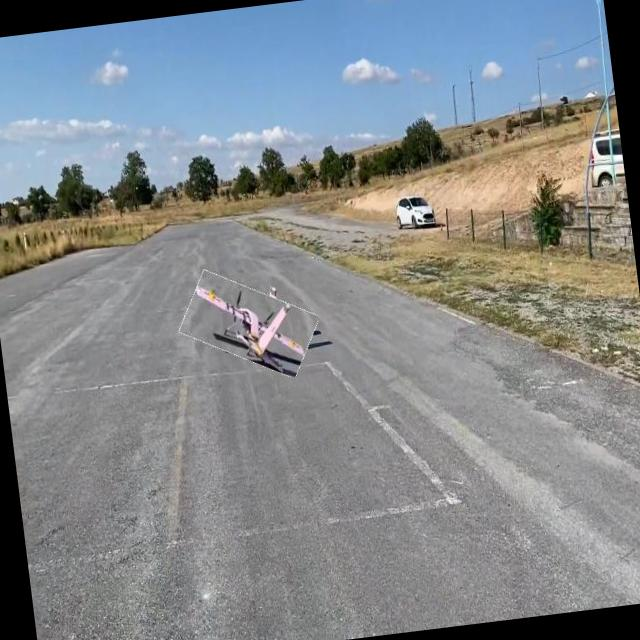UAV: (186, 264, 302, 366)
